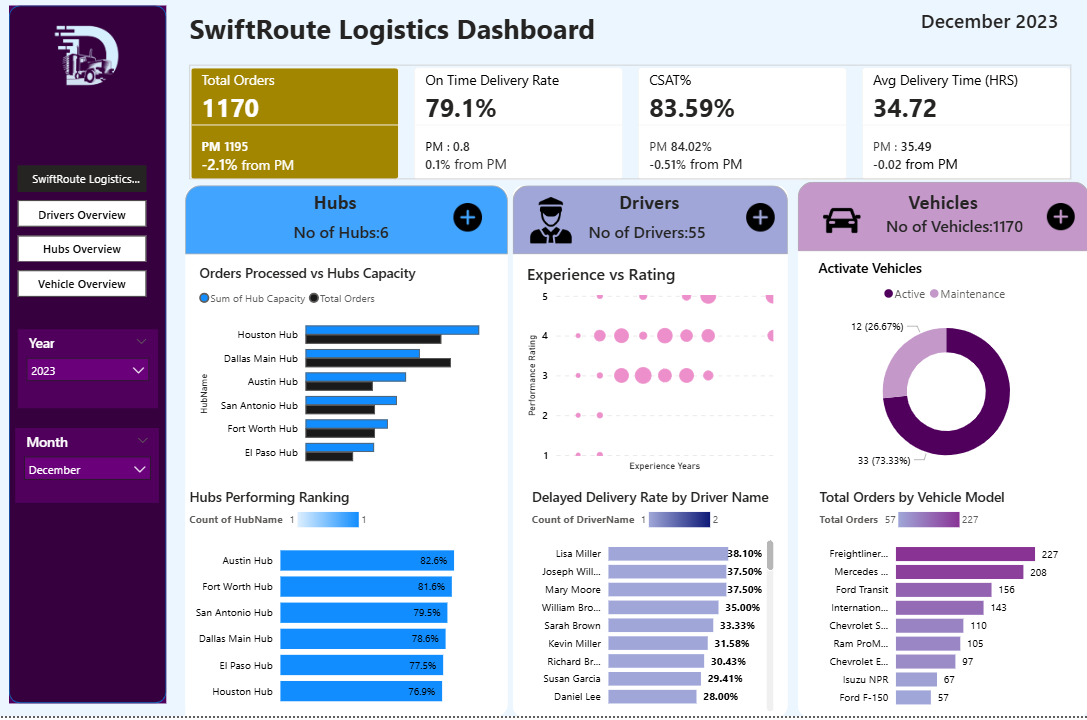

This screenshot's page, from the dashboard's own definition file:
{"tool":"powerbi","page":{"name":"SwiftRoute Logistics Dashboard","canvas":[1280,850],"ordinal":0},"visuals":[{"type":"shape","box":[12.1,15.2,184.8,819.7],"z":0},{"type":"textbox","box":[218.2,15.2,530.3,62.1],"z":1000},{"type":"cardVisual","fields":{"Data":["Orders.Total Orders","Orders.On Time Delivery Rate","Orders.CSAT%","Orders.Avg Delivery Time (HRS)"]},"box":[219,76.4,1049.5,149.9],"z":2000},{"type":"slicer","fields":{"Values":["Date Table.Year"]},"box":[22,395,164.5,92.5],"z":3000},{"type":"slicer","fields":{"Values":["Date Table.Month"]},"box":[19.1,511.1,168.9,88.1],"z":4000},{"type":"shape","box":[218.8,226.2,378.9,624.1],"z":5000},{"type":"shape","box":[218.8,226.2,378.9,80.8],"z":6000},{"type":"textbox","box":[273.2,226.2,243.8,52.9],"z":7000},{"type":"cardVisual","fields":{"Data":["Hubs.No of Hubs"]},"box":[621.2,317.2,201.2,110.1],"z":8000},{"type":"clusteredBarChart","title":"Orders Processed vs Hubs Capacity","fields":{"Category":["Hubs.HubName"],"Y":["Sum(Hubs.Hub Capacity)","Orders.Total Orders"]},"box":[230,316.6,349.5,249.7],"z":9000},{"type":"shape","box":[603.6,226.2,323.1,624.1],"z":10000},{"type":"shape","box":[937.9,225.8,342.4,624.2],"z":11000},{"type":"barChart","title":"Hubs Performing Ranking","fields":{"Category":["Hubs.HubName"],"Y":["Orders.On Time Delivery Rate"]},"box":[218.8,580.1,361.3,270.2],"z":12000},{"type":"shape","box":[603.6,226.2,323.1,80.8],"z":13000},{"type":"shape","box":[937.9,221.2,342.4,81.8],"z":14000},{"type":"cardVisual","fields":{"Data":["Drivers.No of Drivers"]},"box":[675.5,262.9,198.3,32.3],"z":15000},{"type":"cardVisual","fields":{"Data":["Hubs.No of Hubs"]},"box":[329,259.9,152.7,39.7],"z":16000},{"type":"textbox","box":[704.5,225.8,118.2,40.9],"z":17000},{"type":"scatterChart","title":"Experience vs Rating","fields":{"X":["Drivers.Experience Years"],"Y":["Drivers.Performance Rating"],"Size":["Sum(Drivers.Experience Years)1"]},"box":[615.3,317.2,299.6,249.7],"z":18000},{"type":"barChart","title":"Delayed Delivery Rate by Driver Name ","fields":{"Category":["Drivers.DriverName"],"Y":["Orders.Delayed Delivery Rate"]},"box":[621.8,580.6,294,269],"z":19000},{"type":"textbox","box":[1043.9,225.8,130.3,47],"z":20000},{"type":"cardVisual","fields":{"Data":["Vehicles.No of Vehicles"]},"box":[1025.8,257.6,213.6,31.8],"z":21000},{"type":"donutChart","title":"Activate Vehicles","fields":{"Category":["Vehicles.Vehicle Status"],"Y":["CountNonNull(Vehicles.Vehicle ID)"]},"box":[957.5,311.3,311.3,262.9],"z":22000},{"type":"barChart","fields":{"Category":["Vehicles.Vehicle Model"],"Y":["Orders.Total Orders"]},"box":[959.1,580.3,293.9,269.7],"z":23000},{"type":"image","box":[38.2,30.8,130.7,91.1],"z":24000},{"type":"cardVisual","fields":{"Data":["Orders.Year Month Title"]},"box":[1058.8,14.7,210,32.3],"z":25000},{"type":"image","box":[873.8,246.7,41.1,33.8],"z":26000},{"type":"image","box":[533.1,246.7,35.2,33.8],"z":27000},{"type":"pageNavigator","box":[22,202.7,151.3,155.7],"z":28000},{"type":"image","box":[1226.3,246.7,42.6,32.3],"z":29000},{"type":"image","box":[621.2,235,54.3,64.6],"z":30000},{"type":"image","box":[954.6,245.3,70.5,44.1],"z":31000}]}

Visuals, with their boxes on the page's 1280x850 design canvas (x1, y1, x2, y2). These are canvas units, not pixel positions in the 1087x720 screenshot, which may show the page scaled, cropped or inside an application window:
shape: (x1=12, y1=15, x2=197, y2=835)
textbox: (x1=218, y1=15, x2=748, y2=77)
cardVisual - Orders.Total Orders x Orders.On Time Delivery Rate: (x1=219, y1=76, x2=1268, y2=226)
slicer - Date Table.Year: (x1=22, y1=395, x2=186, y2=488)
slicer - Date Table.Month: (x1=19, y1=511, x2=188, y2=599)
shape: (x1=219, y1=226, x2=598, y2=850)
shape: (x1=219, y1=226, x2=598, y2=307)
textbox: (x1=273, y1=226, x2=517, y2=279)
cardVisual - Hubs.No of Hubs: (x1=621, y1=317, x2=822, y2=427)
"Orders Processed vs Hubs Capacity" clusteredBarChart: (x1=230, y1=317, x2=580, y2=566)
shape: (x1=604, y1=226, x2=927, y2=850)
shape: (x1=938, y1=226, x2=1280, y2=850)
"Hubs Performing Ranking" barChart: (x1=219, y1=580, x2=580, y2=850)
shape: (x1=604, y1=226, x2=927, y2=307)
shape: (x1=938, y1=221, x2=1280, y2=303)
cardVisual - Drivers.No of Drivers: (x1=676, y1=263, x2=874, y2=295)
cardVisual - Hubs.No of Hubs: (x1=329, y1=260, x2=482, y2=300)
textbox: (x1=704, y1=226, x2=823, y2=267)
"Experience vs Rating" scatterChart: (x1=615, y1=317, x2=915, y2=567)
"Delayed Delivery Rate by Driver Name " barChart: (x1=622, y1=581, x2=916, y2=850)
textbox: (x1=1044, y1=226, x2=1174, y2=273)
cardVisual - Vehicles.No of Vehicles: (x1=1026, y1=258, x2=1239, y2=289)
"Activate Vehicles" donutChart: (x1=958, y1=311, x2=1269, y2=574)
barChart - Vehicles.Vehicle Model x Orders.Total Orders: (x1=959, y1=580, x2=1253, y2=850)
image: (x1=38, y1=31, x2=169, y2=122)
cardVisual - Orders.Year Month Title: (x1=1059, y1=15, x2=1269, y2=47)
image: (x1=874, y1=247, x2=915, y2=280)
image: (x1=533, y1=247, x2=568, y2=280)
pageNavigator: (x1=22, y1=203, x2=173, y2=358)
image: (x1=1226, y1=247, x2=1269, y2=279)
image: (x1=621, y1=235, x2=676, y2=300)
image: (x1=955, y1=245, x2=1025, y2=289)
